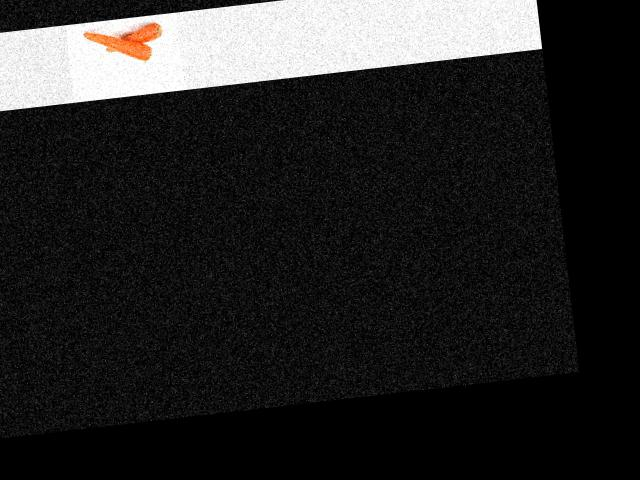carrot: (98, 20, 167, 55)
